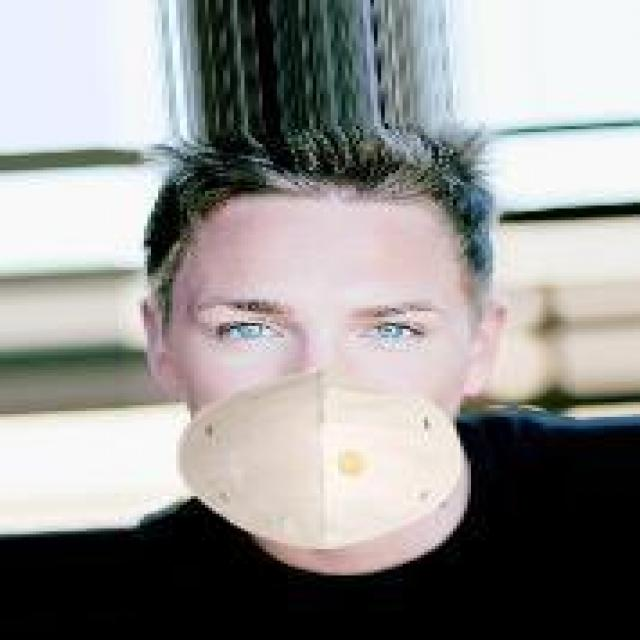mask: (133, 179, 543, 543)
